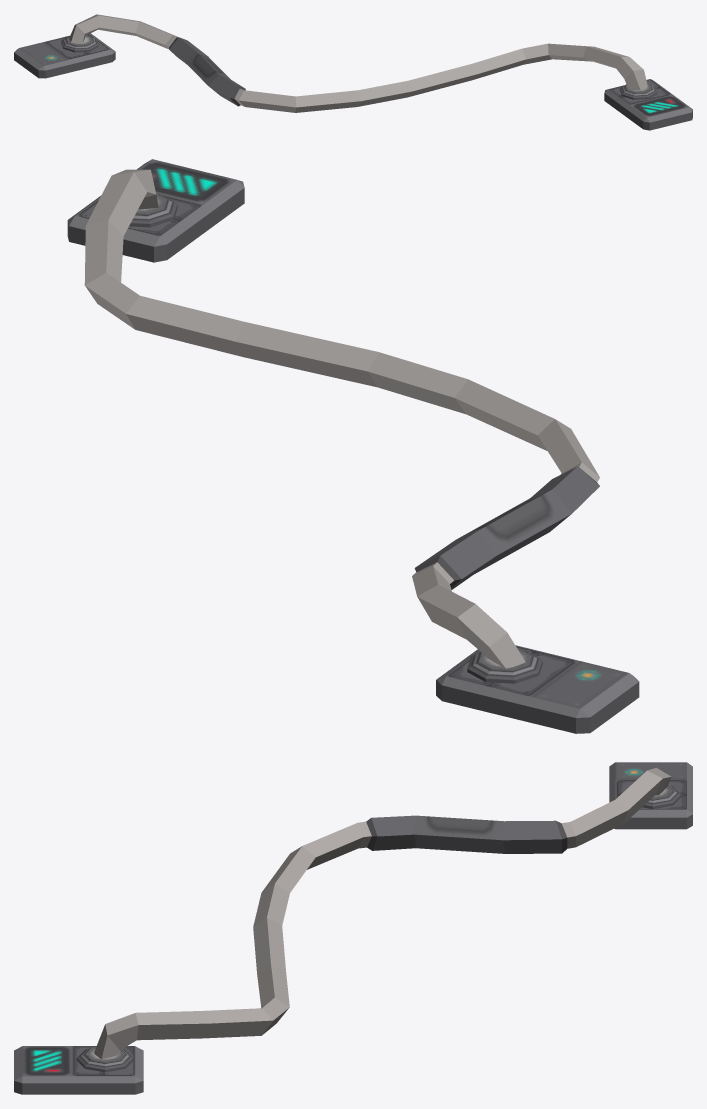
File: SM_Prop_Wires_13.fbx
The picture shows the model from 3 angles, top to bottom: view 1: azimuth 30°, elevation 25°; view 2: azimuth 150°, elevation 25°; view 3: azimuth 270°, elevation 25°; orthographic projection. The views are drawn at different scales.
Visible parts, largest first — view 1: SM_Prop_Wires_13; view 2: SM_Prop_Wires_13; view 3: SM_Prop_Wires_13.
Part boxes in pixels (x1,y1,x2,y2): SM_Prop_Wires_13: (14, 14, 692, 130); SM_Prop_Wires_13: (67, 159, 639, 733); SM_Prop_Wires_13: (14, 762, 692, 1094).
Size of the model in its own units: 198 by 16.8 by 177.
